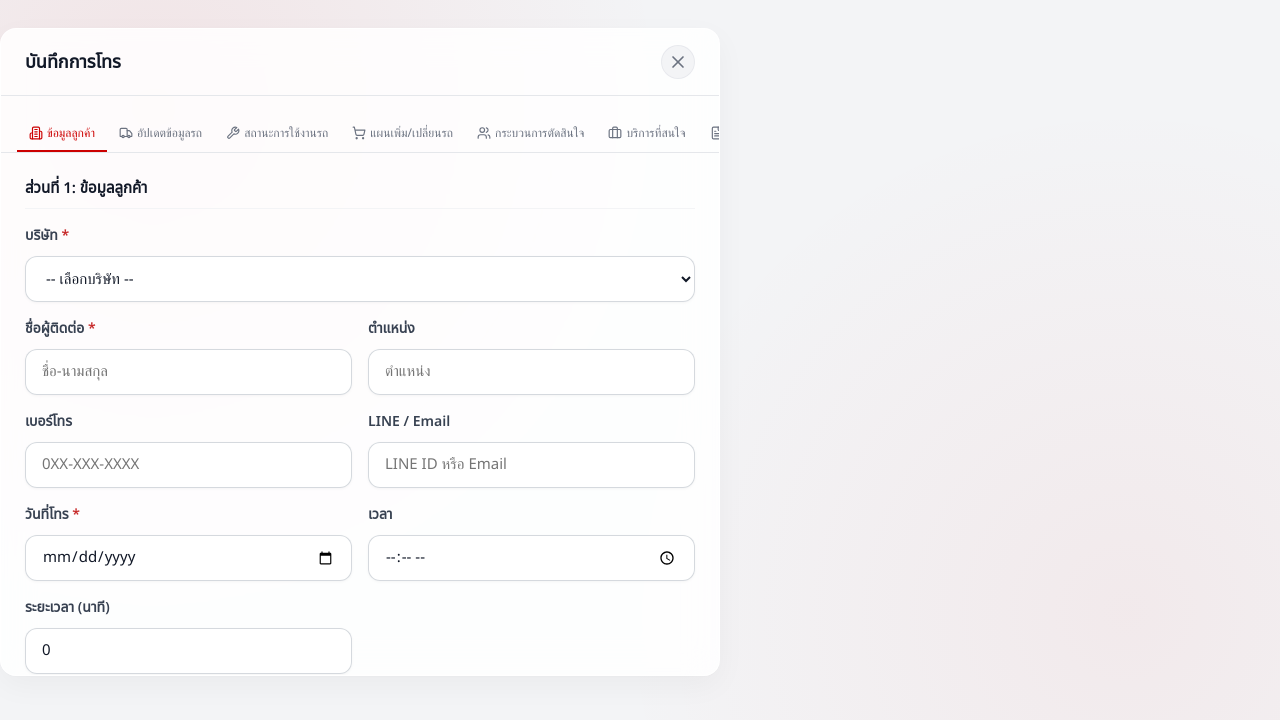
Test: CallForm › renders main problems checkboxes
Step 1. Click the button "สถานะการใช้งานรถ" → (277, 134), box [214, 116, 340, 152]
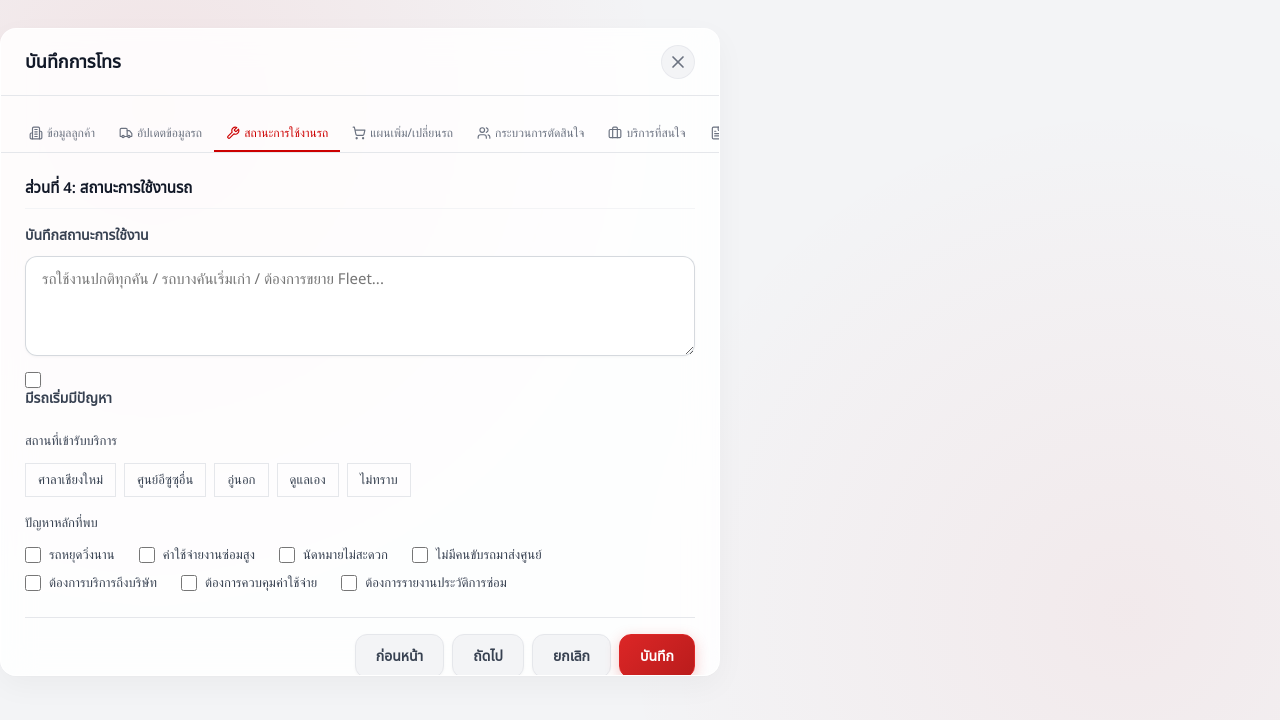
Check: the text "รถหยุดวิ่งนาน" is shown, box [49, 545, 115, 565]
Check: the text "ค่าใช้จ่ายงานซ่อมสูง" is shown, box [163, 545, 255, 565]
